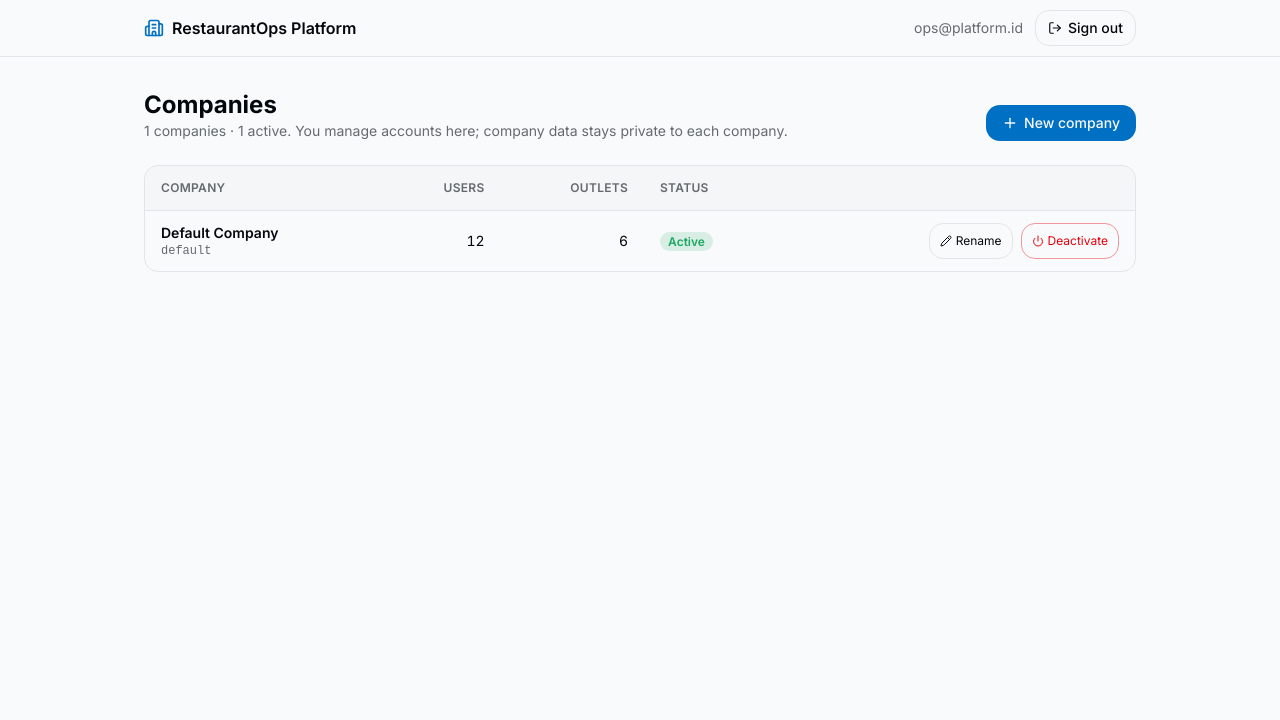
Scenario: PlatformPage › renames a company
Expected: the row "Default Company default 12 6 Active Rename Deactivate" is shown, 145,210 -> 1135,271
Click the button "Rename" at [971, 241], box 929,223 -> 1013,259
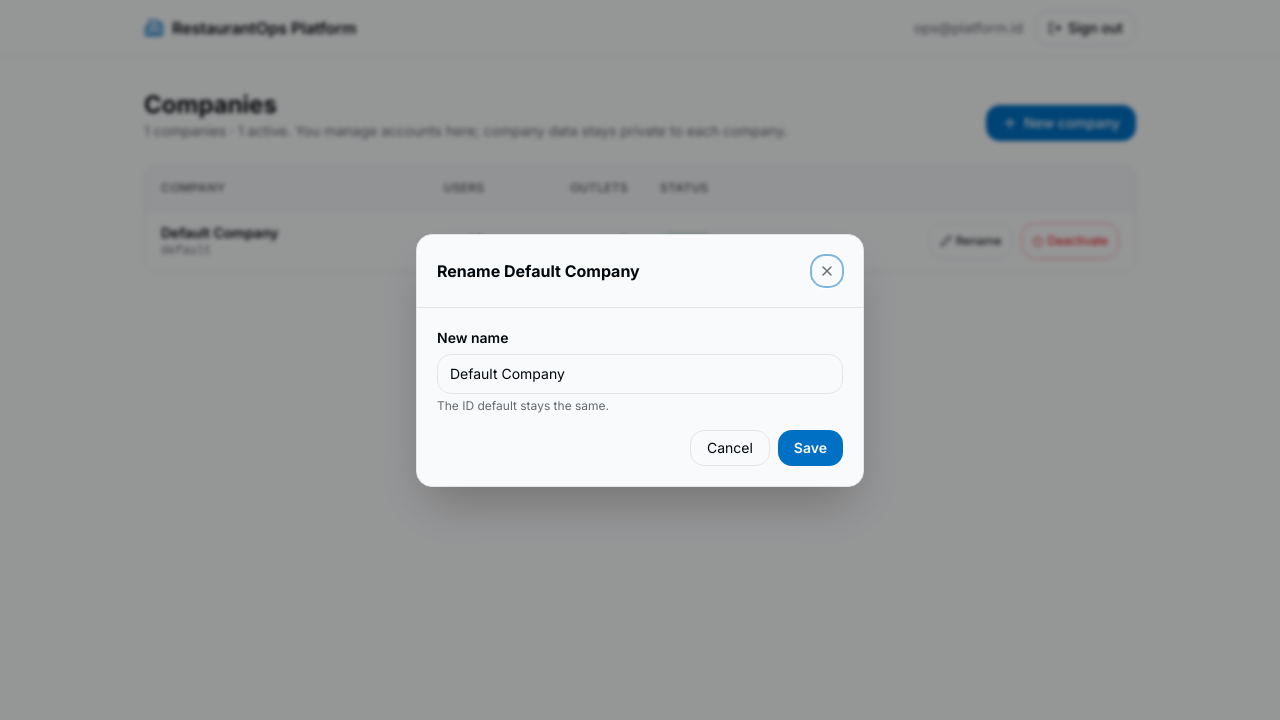
Replace the text in the field labelled "New name" with "PT Resto Pilot" at [640, 374], box 437,354 -> 843,394
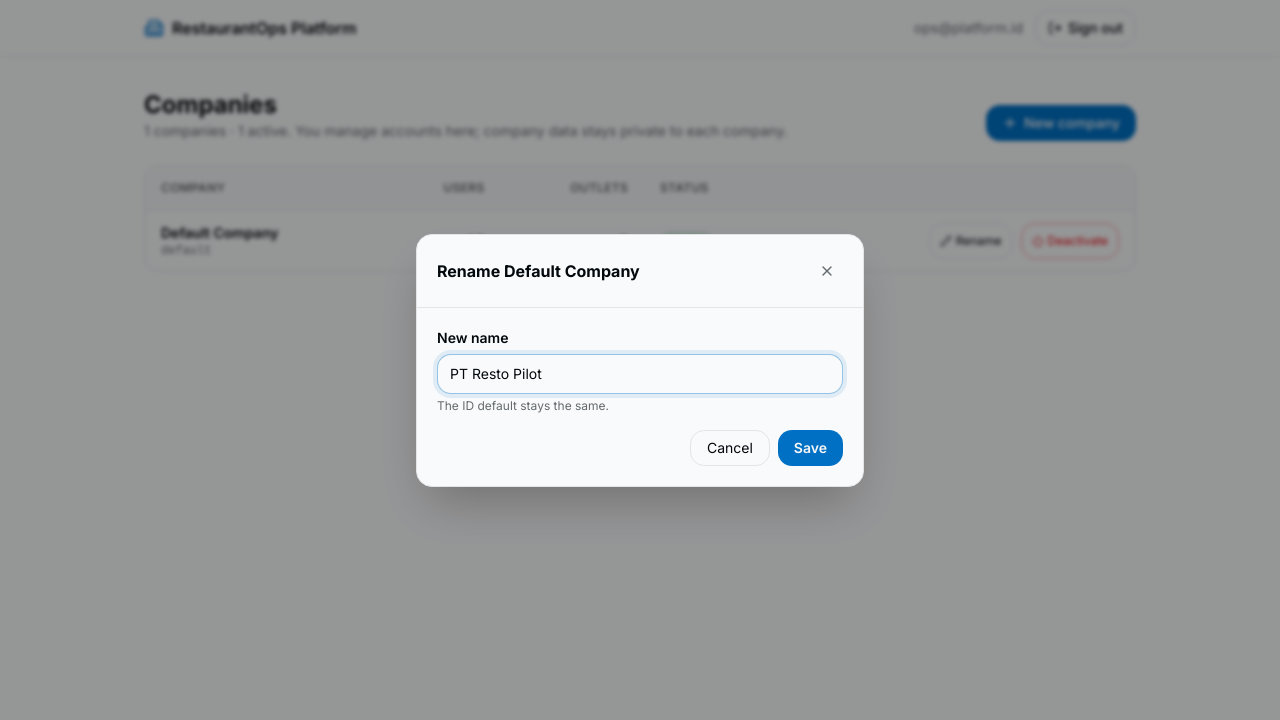
Click the button "Save" at [810, 448], box 778,430 -> 843,466
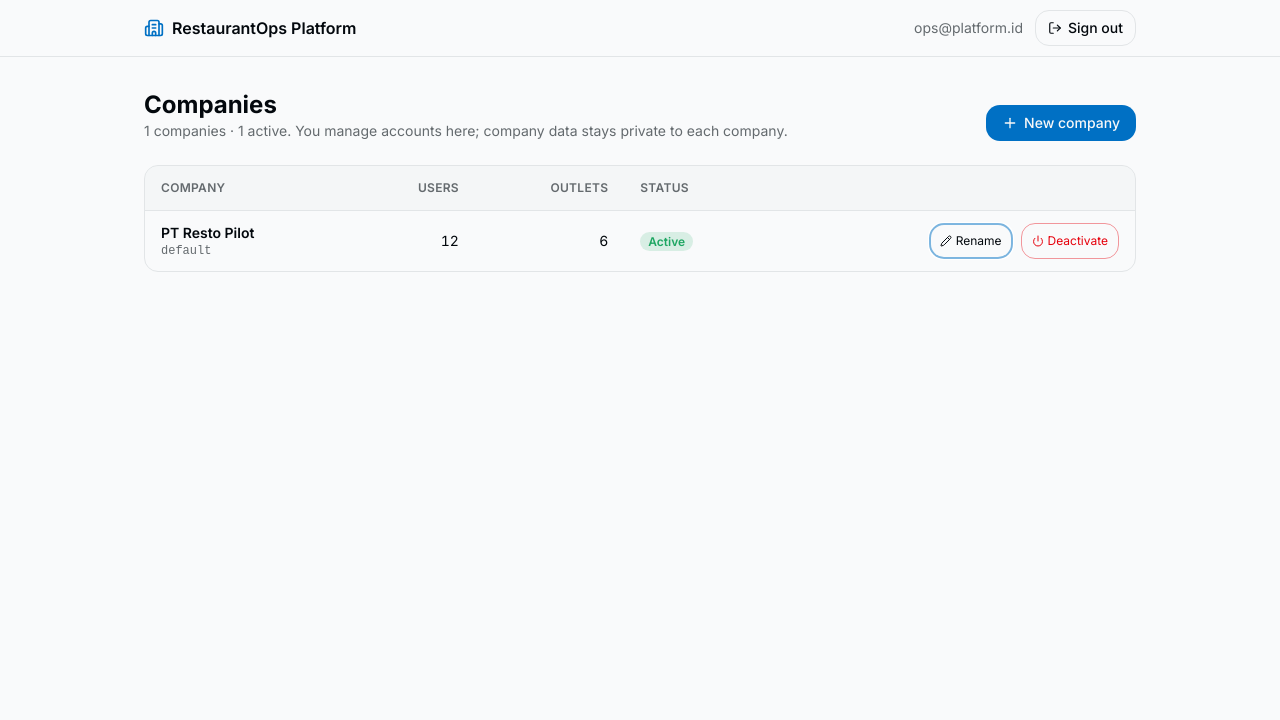
Result: the row "PT Resto Pilot default 12 6 Active Rename Deactivate" is shown at 145,210 -> 1135,271
